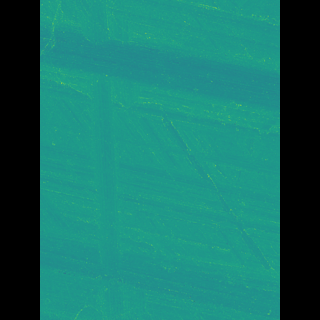Loch: (70, 65, 251, 146), (94, 0, 136, 320)
